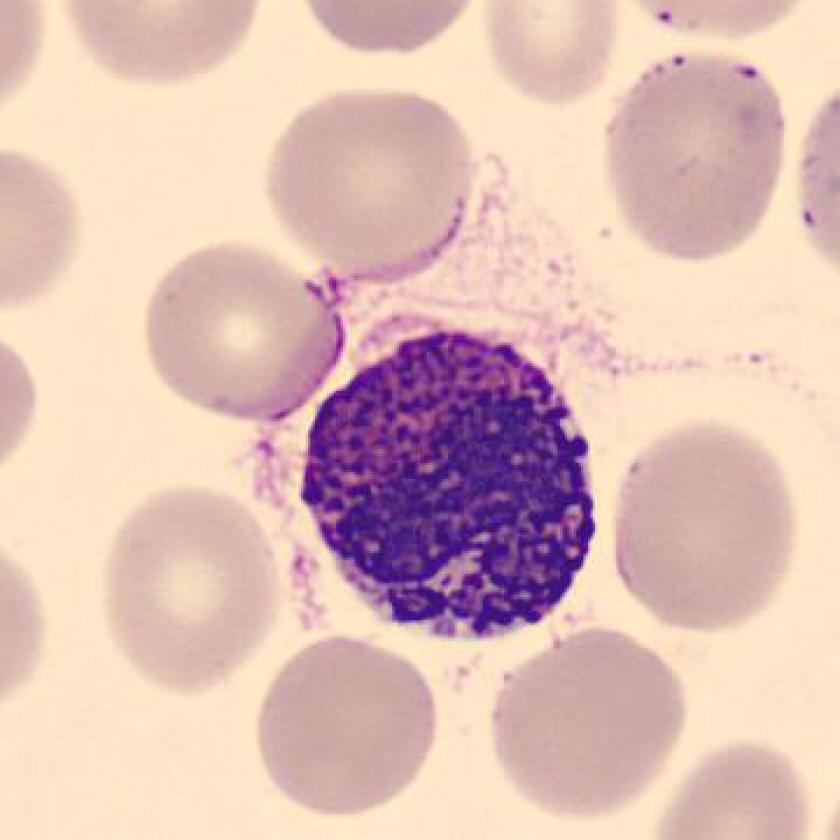basophil: (298, 325, 606, 644)
